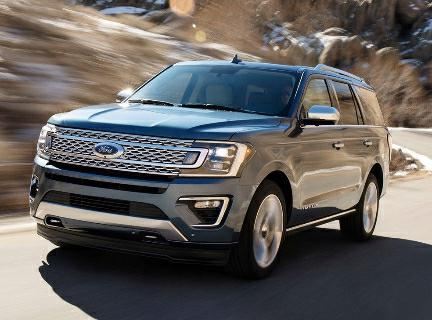福特-征服者: (19, 52, 399, 280)
